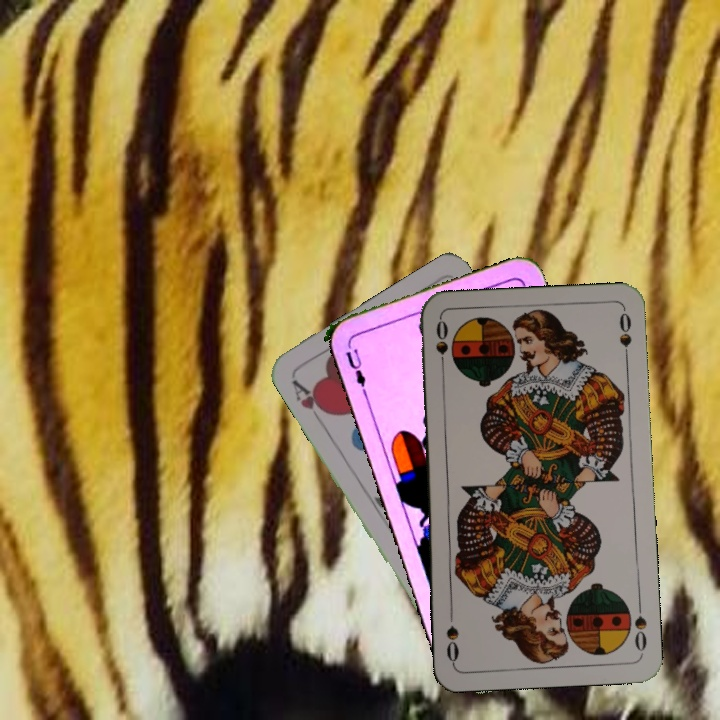EU: (341, 344, 370, 398)
HA: (288, 375, 332, 427)
SO: (431, 316, 451, 376), (630, 597, 650, 656)
